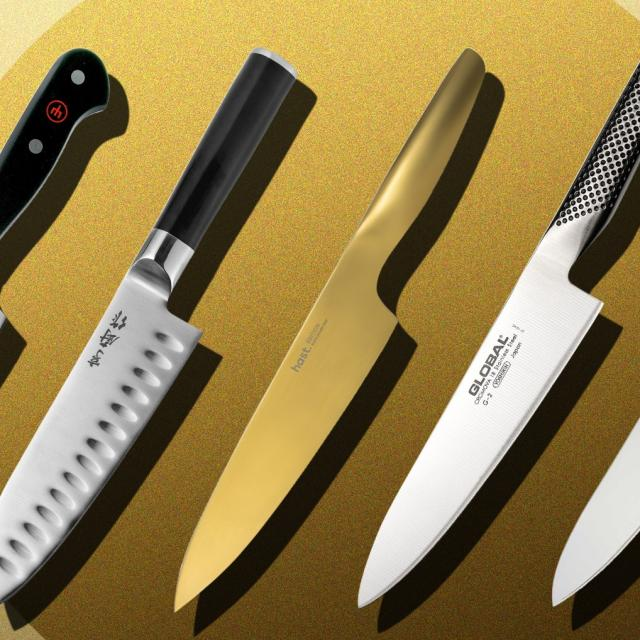Weapon: (175, 49, 484, 610), (0, 48, 295, 602), (359, 59, 640, 605)
